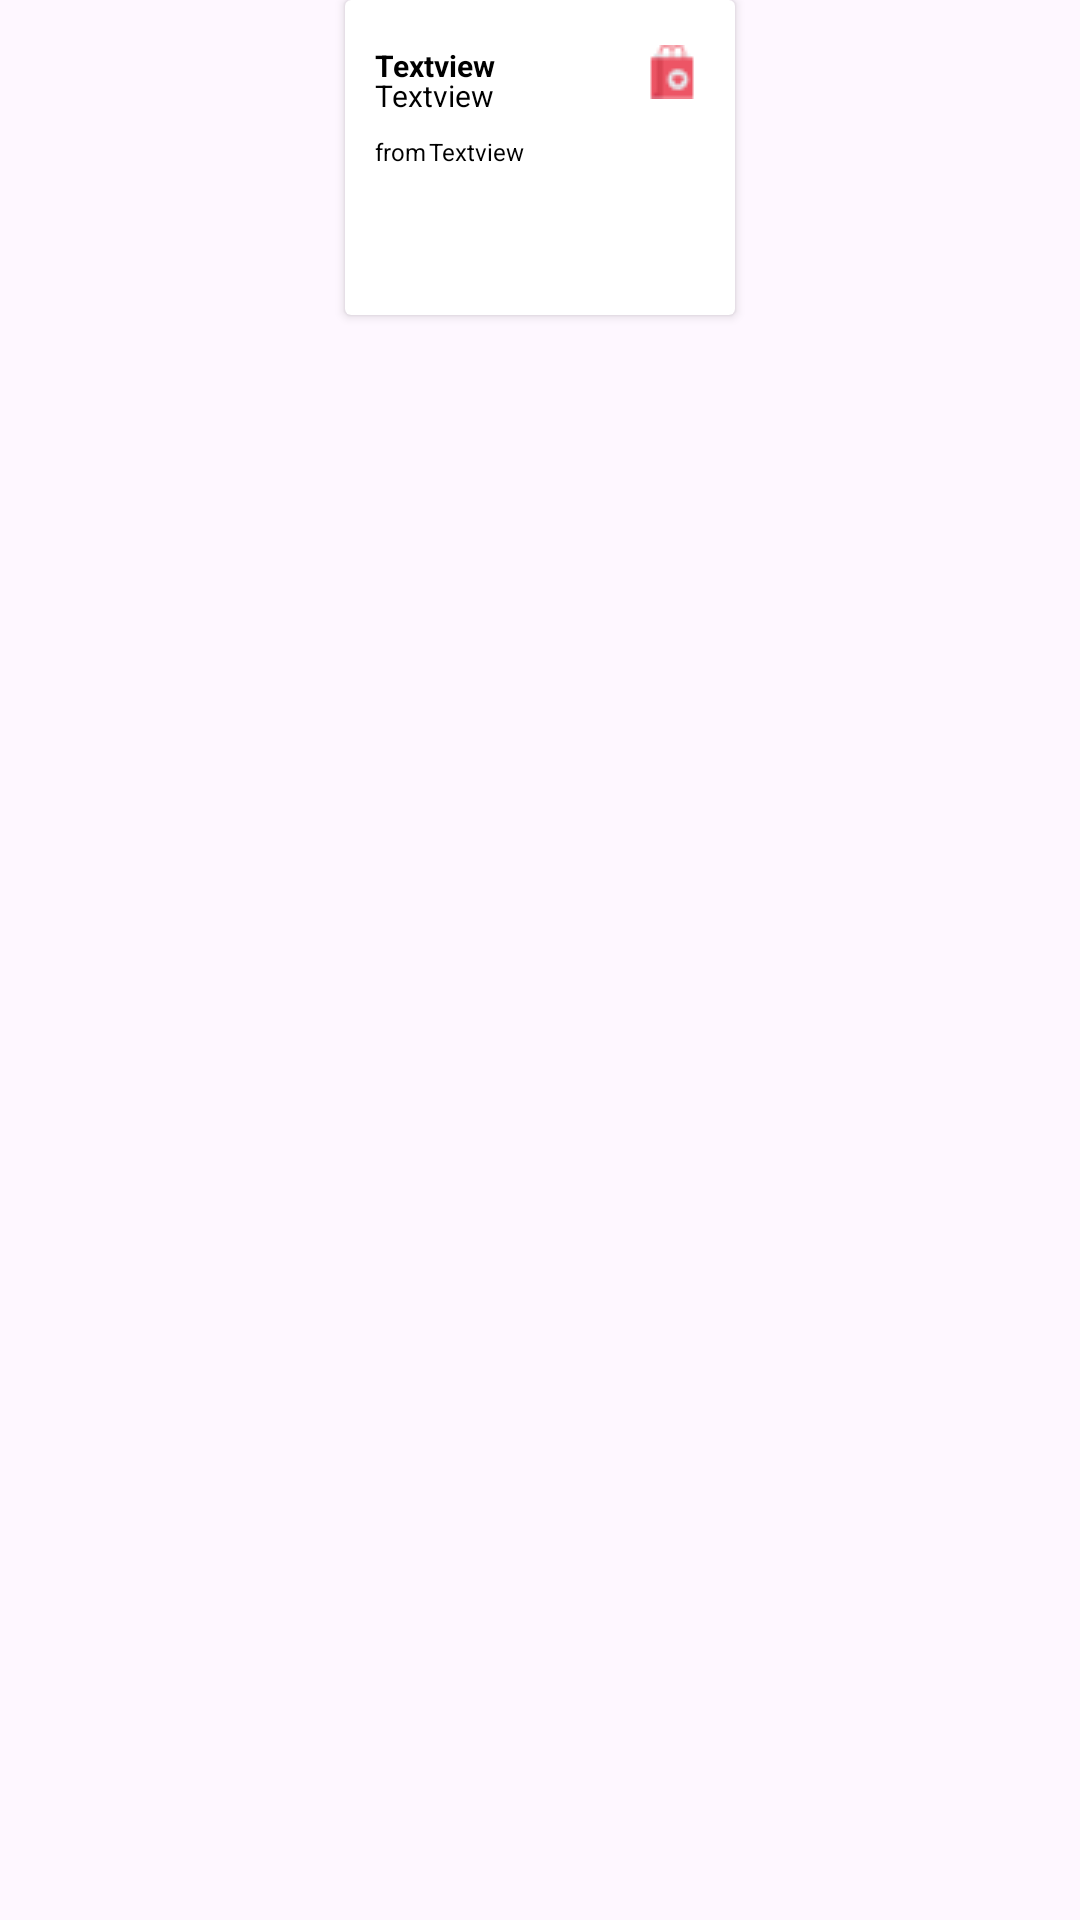

Point at icon controls on the screen. Image size 1080*1920, points as [x,y].
bag: [672,72]
